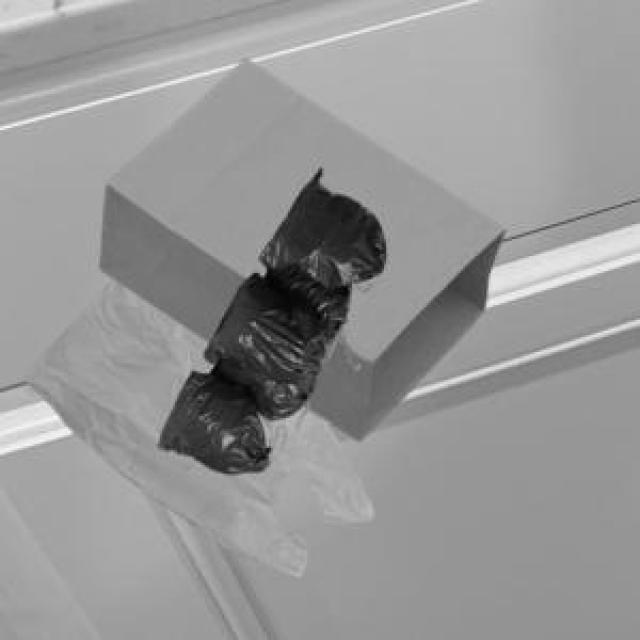miscellaneous trash: (154, 164, 382, 469)
paper: (96, 56, 501, 437)
